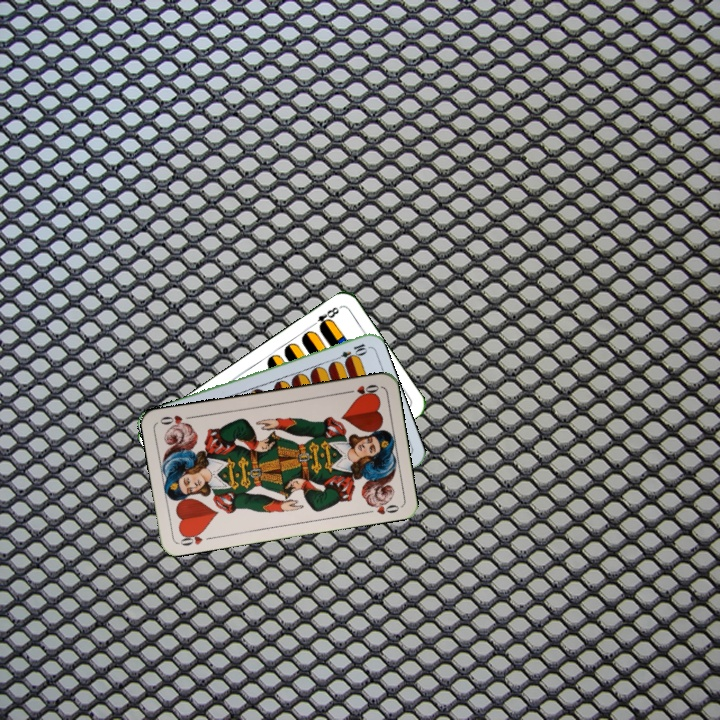E10: (330, 339, 369, 364)
E8: (307, 302, 343, 331)
HO: (175, 527, 216, 548), (342, 380, 382, 399)
